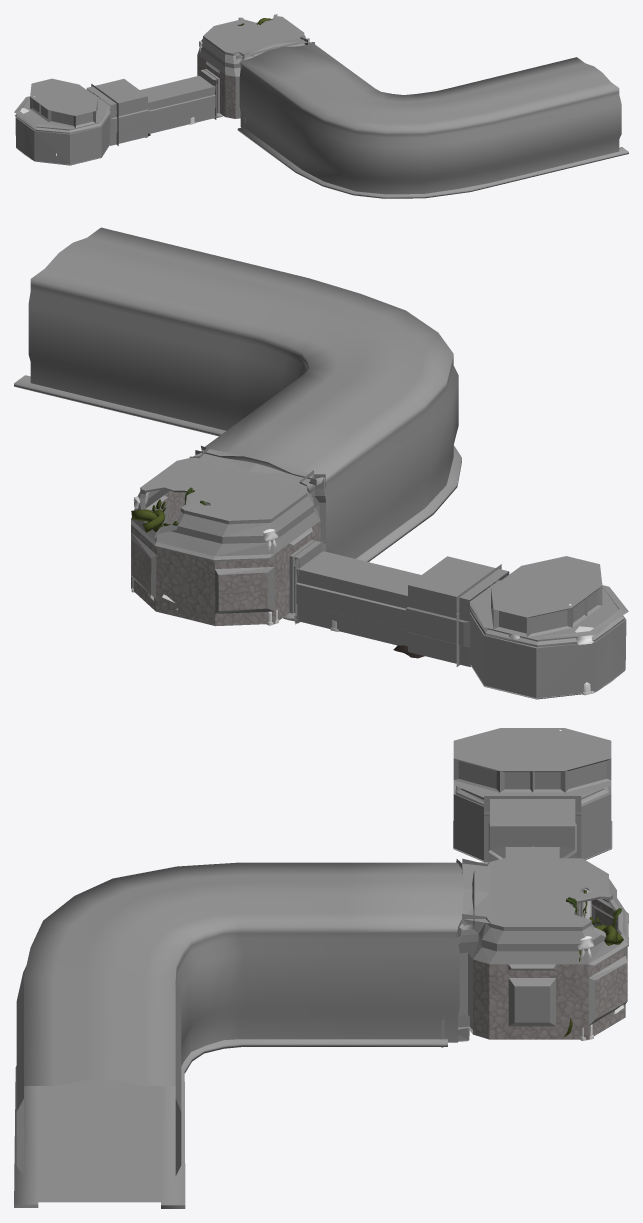
Rendered from TempleLevel.FBX.
3 renders of one model, top to bottom at view 1: azimuth 30°, elevation 25°; view 2: azimuth 150°, elevation 25°; view 3: azimuth 270°, elevation 25°, orthographic. The views are drawn at different scales.
Visible parts, largest first — view 1: Hall 2, Room 1, Hall 1, Room 2; view 2: Hall 2, Room 2, Room 1, Hall 1; view 3: Hall 2, Room 2, Room 1, Hall 1.
Part boxes in pixels (x1,y1,x2,y2): Hall 2: [236, 38, 628, 198]; Room 1: [14, 78, 118, 165]; Hall 1: [86, 75, 215, 145]; Room 2: [197, 14, 314, 128]; Hall 2: [14, 227, 461, 561]; Room 2: [131, 445, 325, 626]; Room 1: [456, 556, 628, 699]; Hall 1: [296, 551, 509, 667]; Hall 2: [14, 862, 474, 1208]; Room 2: [441, 858, 628, 1047]; Room 1: [453, 728, 612, 861]; Hall 1: [488, 793, 576, 861].
Bounding box in the file's own units: 5911 × 906 × 3834.
8 materials, 6 textured.
